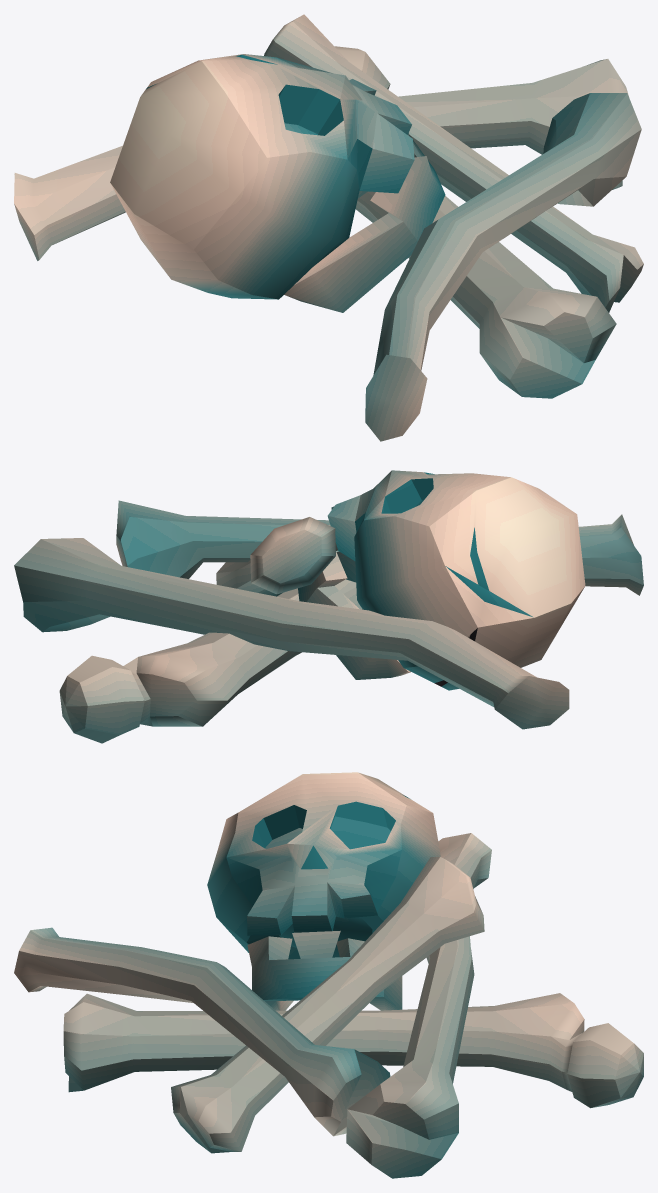
Rendered from Bone_Pile1.fbx.
3 views of the same model, one above another, from view 1: azimuth 30°, elevation 25°; view 2: azimuth 150°, elevation 25°; view 3: azimuth 270°, elevation 25° (orthographic). The views are drawn at different scales.
Parts seen in each view (by area): view 1: Bone_Pile1; view 2: Bone_Pile1; view 3: Bone_Pile1.
Boxes of the visible parts, <box> form: Bone_Pile1: <box>14,14,643,441</box>; Bone_Pile1: <box>14,470,643,743</box>; Bone_Pile1: <box>14,772,643,1178</box>.
Bounding box in the file's own units: 2.91 × 1.28 × 3.01.
